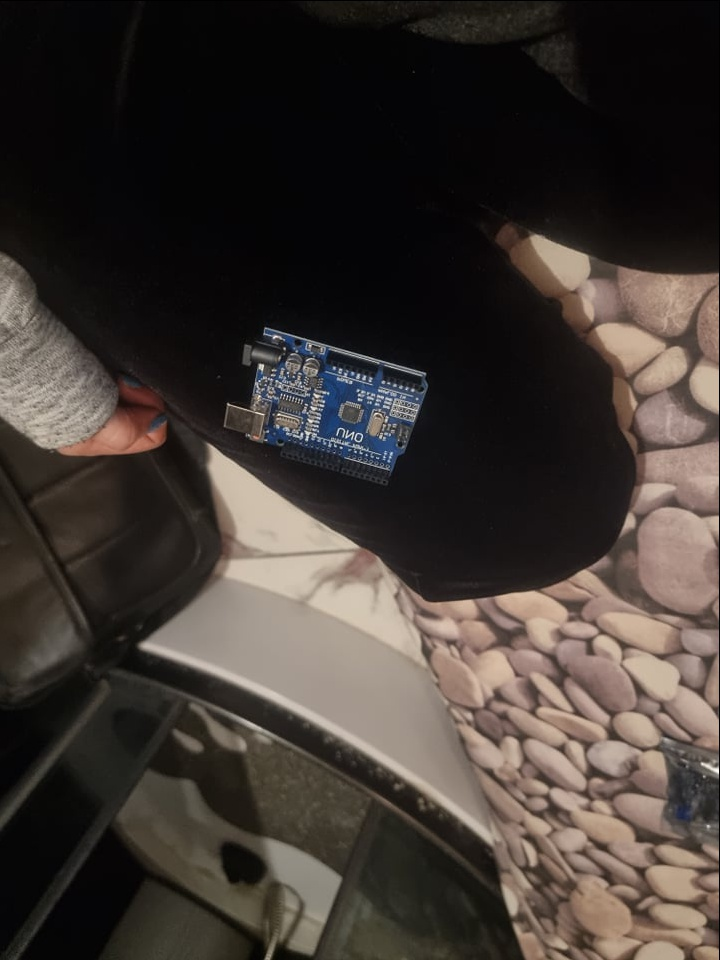UNO R3: (224, 322, 439, 486)
